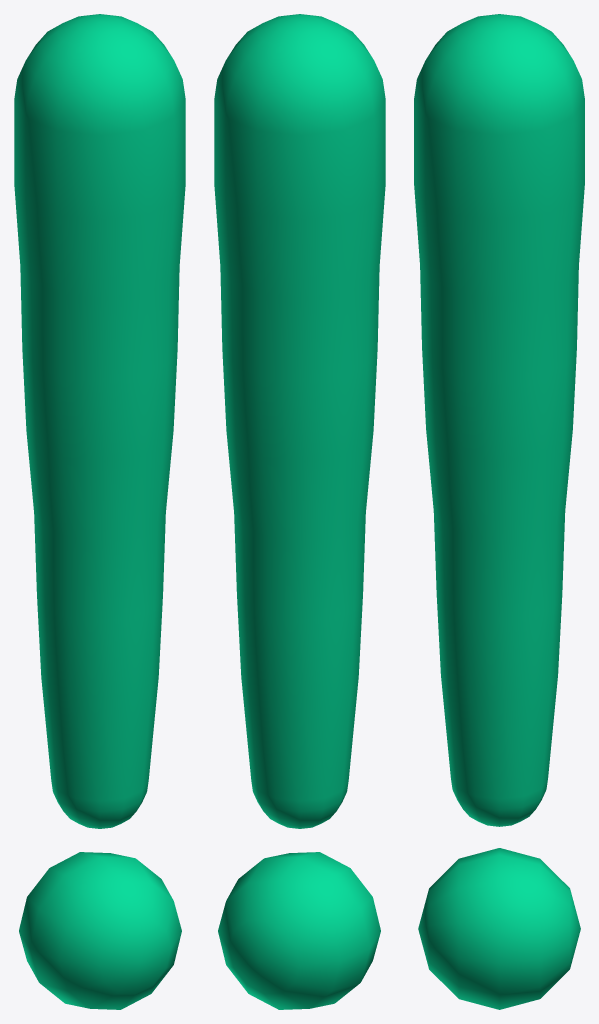
File: Exclamation Mark.FBX
3 views of the same model, side by side, from view 1: azimuth 30°, elevation 25°; view 2: azimuth 150°, elevation 25°; view 3: azimuth 270°, elevation 25° (orthographic).
Parts seen in each view (by area): view 1: Excalmation Mark, Exclamation Dot; view 2: Excalmation Mark, Exclamation Dot; view 3: Excalmation Mark, Exclamation Dot.
Boxes of the visible parts, <box> form: Excalmation Mark: <box>14,14,185,828</box>; Exclamation Dot: <box>19,852,181,1009</box>; Excalmation Mark: <box>214,14,385,828</box>; Exclamation Dot: <box>218,852,380,1009</box>; Excalmation Mark: <box>414,14,584,826</box>; Exclamation Dot: <box>418,848,580,1009</box>.
Size of the model in its own units: 0.189 by 1.2 by 0.189.
